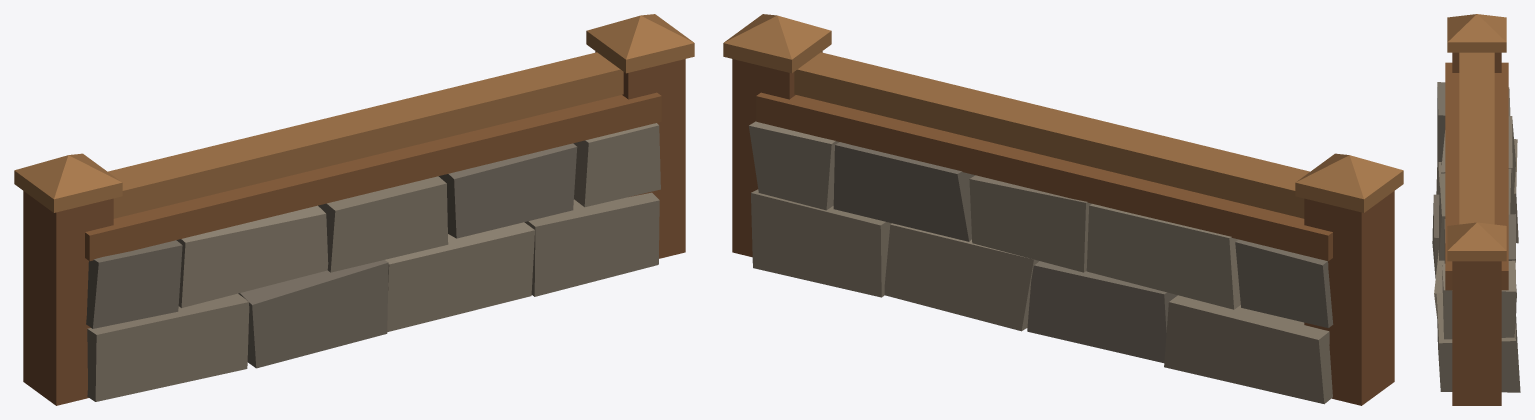
The model's file is wall_low.fbx.
3 views of the same model, side by side, from view 1: azimuth 30°, elevation 25°; view 2: azimuth 150°, elevation 25°; view 3: azimuth 270°, elevation 25° (orthographic). The views are drawn at different scales.
Visible parts, largest first — view 1: wall_low; view 2: wall_low; view 3: wall_low.
Boxes of the visible parts, x1,y1,x2,y2 form: wall_low: [14, 14, 694, 405]; wall_low: [723, 14, 1403, 405]; wall_low: [1432, 14, 1520, 405].
Bounding box in the file's own units: 7.84 × 2.71 × 1.25.
